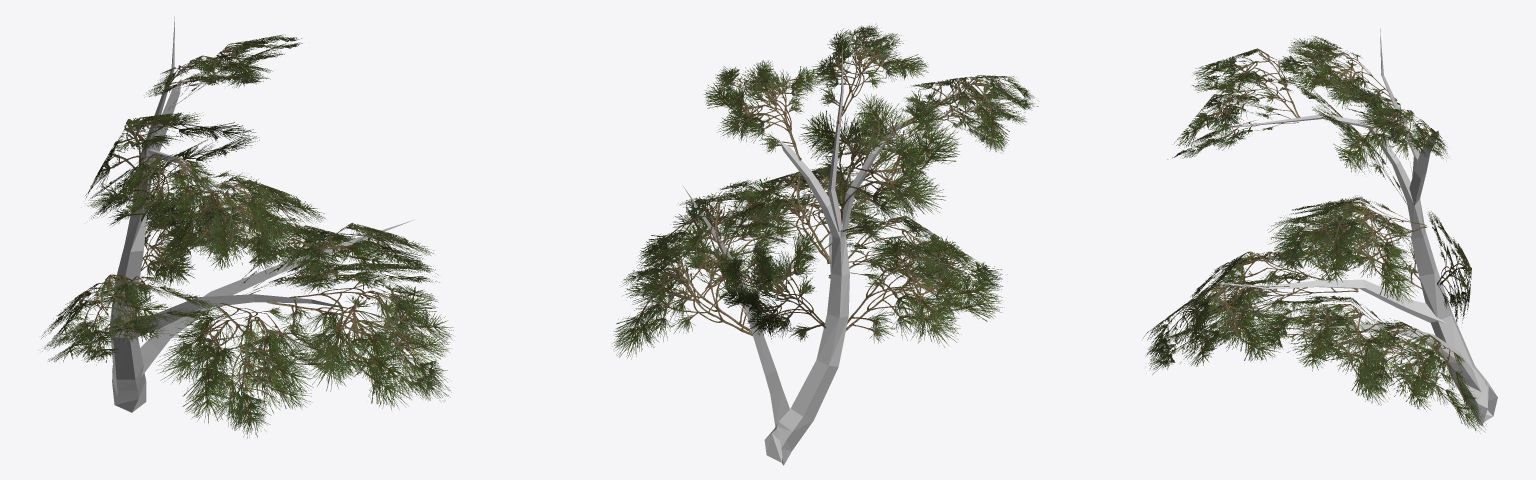
File: RedMapleLeaves3.FBX
3 renders of one model, left to right at view 1: azimuth 30°, elevation 25°; view 2: azimuth 150°, elevation 25°; view 3: azimuth 270°, elevation 25°, orthographic. The views are drawn at different scales.
Parts seen in each view (by area): view 1: Object019; view 2: Object019; view 3: Object019.
Part boxes in pixels (x1,y1,x2,y2): Object019: (41, 17, 453, 438); Object019: (612, 23, 1038, 465); Object019: (1142, 28, 1497, 433).
Size of the model in its own units: 197 by 166 by 164.
